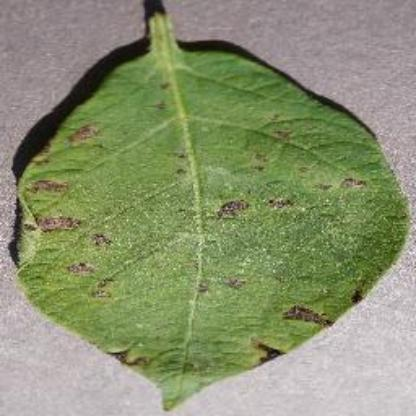Early-Blight: (13, 9, 409, 403)
